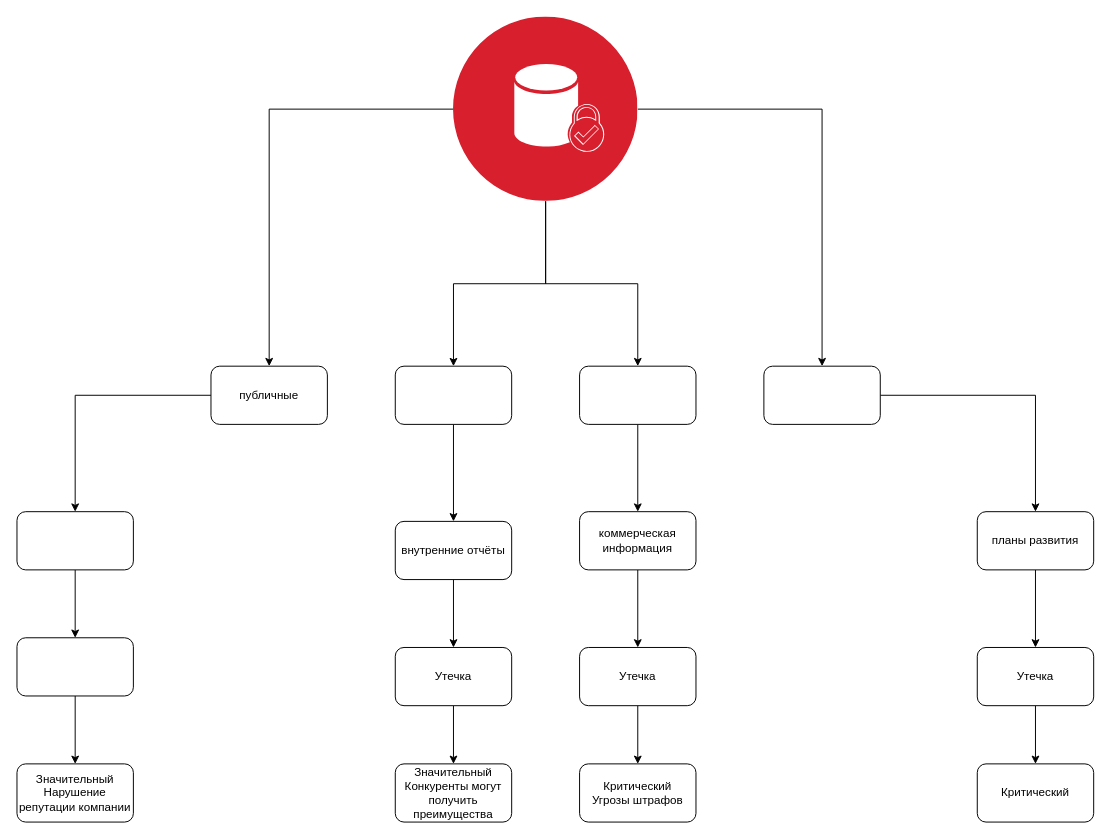
Some shapes in this 1111 by 839 pixel diagram are drawn without their labels. The box of each missing label's shape, as (x1, y1, x2, y2) in pixels:
Витрина продаж: (16, 511, 133, 570)
внутренние: (394, 365, 512, 424)
Искажение: (16, 637, 133, 696)
конфиденциальные: (579, 365, 696, 424)
секретные: (763, 365, 880, 424)
